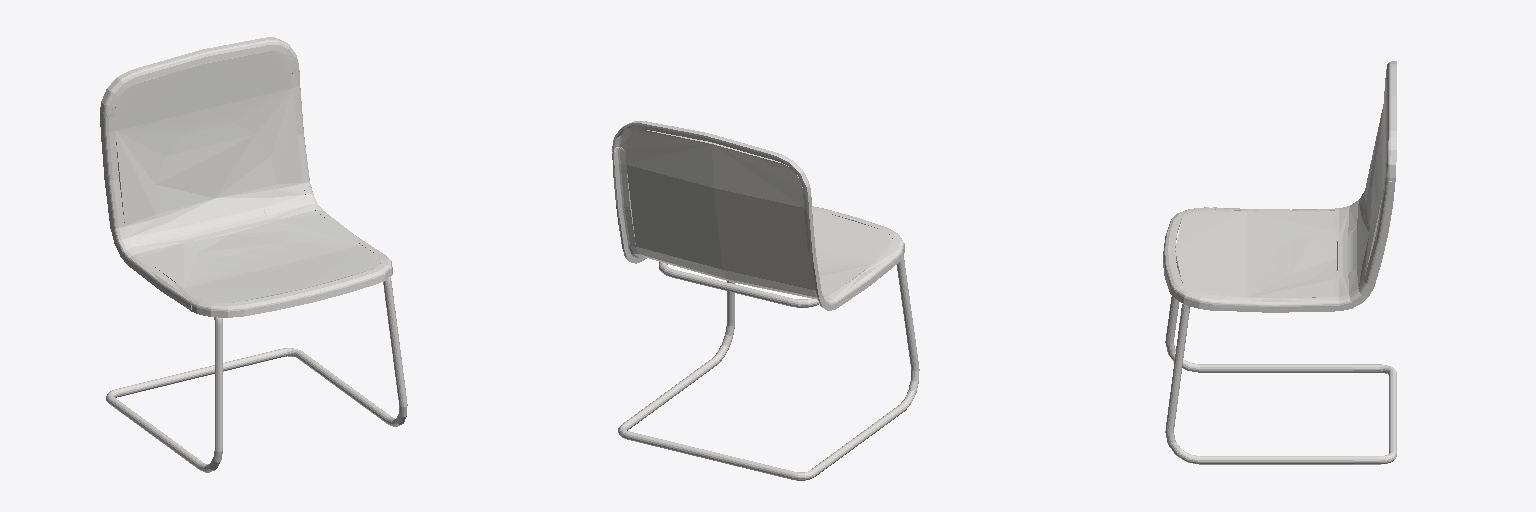
3 renders of one model, left to right at view 1: azimuth 30°, elevation 25°; view 2: azimuth 150°, elevation 25°; view 3: azimuth 270°, elevation 25°, orthographic.
Parts seen in each view (by area): view 1: Revit_014442_07, Revit_014442_08, Revit_014442_01, Revit_014442_02, Revit_014443_04, Revit_014443_03, Revit_014443_06, Revit_014442_09; view 2: Revit_014442_07, Revit_014442_08, Revit_014443_03, Revit_014443_06, Revit_014442_01, Revit_014442_09, Revit_014443_04, Revit_014443_05, Revit_014442_02; view 3: Revit_014442_07, Revit_014442_09, Revit_014443_04, Revit_014443_03, Revit_014442_02, Revit_014443_06, Revit_014442_01.
Part boxes in pixels (left/top/right/bottom): Revit_014442_07: left=115, top=51, right=380, bottom=302; Revit_014442_08: left=100, top=116, right=199, bottom=310; Revit_014442_01: left=100, top=37, right=298, bottom=117; Revit_014442_02: left=191, top=255, right=392, bottom=317; Revit_014443_04: left=310, top=276, right=407, bottom=426; Revit_014443_03: left=122, top=317, right=222, bottom=472; Revit_014443_06: left=106, top=348, right=314, bottom=412; Revit_014442_09: left=292, top=70, right=386, bottom=256; Revit_014442_07: left=626, top=130, right=892, bottom=299; Revit_014442_08: left=803, top=195, right=898, bottom=310; Revit_014443_03: left=823, top=257, right=919, bottom=465; Revit_014443_06: left=618, top=415, right=828, bottom=480; Revit_014442_01: left=612, top=121, right=810, bottom=199; Revit_014442_09: left=612, top=150, right=646, bottom=263; Revit_014443_04: left=635, top=281, right=734, bottom=420; Revit_014443_05: left=659, top=262, right=819, bottom=307; Revit_014442_02: left=812, top=206, right=904, bottom=261; Revit_014442_07: left=1175, top=79, right=1385, bottom=297; Revit_014442_09: left=1213, top=178, right=1394, bottom=312; Revit_014443_04: left=1165, top=304, right=1352, bottom=464; Revit_014443_03: left=1165, top=262, right=1352, bottom=372; Revit_014442_02: left=1163, top=207, right=1213, bottom=310; Revit_014443_06: left=1353, top=364, right=1396, bottom=464; Revit_014442_01: left=1385, top=61, right=1396, bottom=181.
Size of the model in its own units: 531 by 838 by 550.